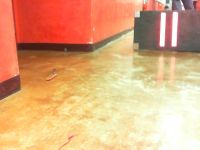switch: (159, 12, 166, 47), (171, 12, 178, 47)
